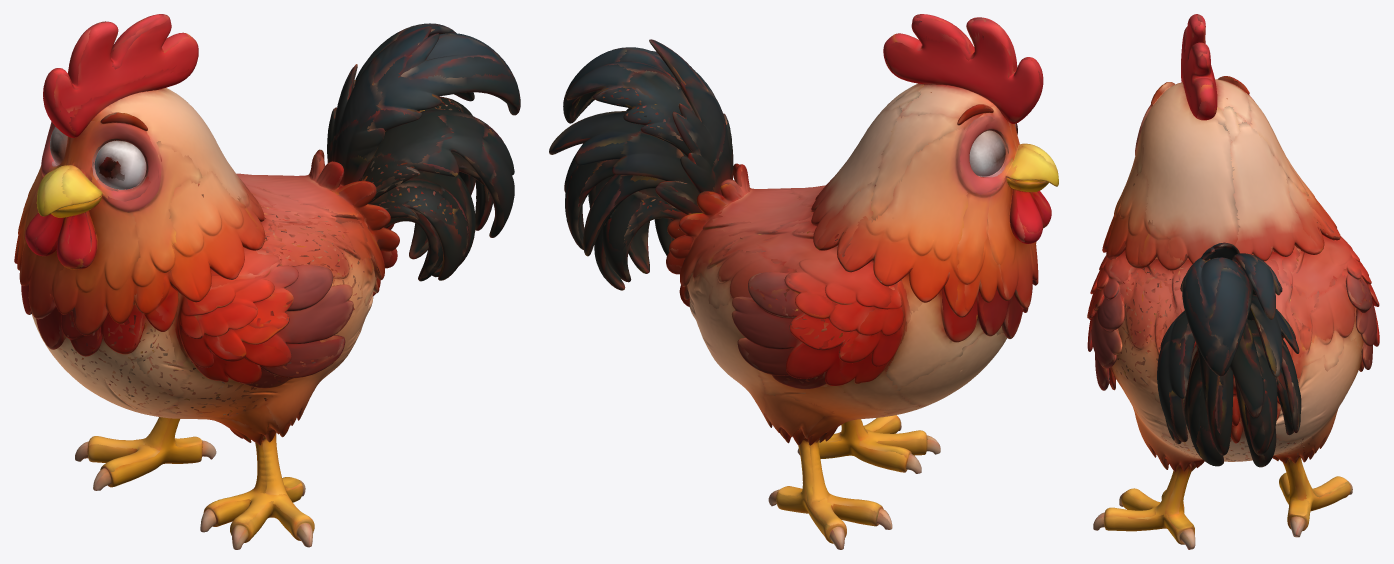
Rendered from chicken.glb.
3 views of the same model, side by side, from view 1: azimuth 30°, elevation 25°; view 2: azimuth 150°, elevation 25°; view 3: azimuth 270°, elevation 25° (orthographic). The views are drawn at different scales.
Visible parts, largest first — view 1: node_0; view 2: node_0; view 3: node_0.
Boxes of the visible parts, box(x1,y1,x2,y2) form: node_0: box(14, 14, 520, 549); node_0: box(549, 14, 1058, 549); node_0: box(1087, 14, 1379, 549).
Bounding box in the file's own units: 0.9443 × 0.9327 × 0.5489.
Materials: 1 (1 with a texture image).
